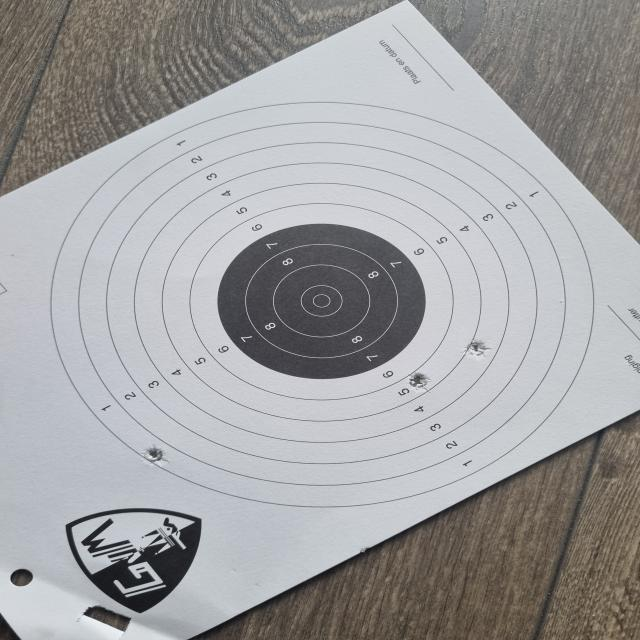1: (140, 446, 170, 466)
6: (462, 339, 491, 357)
7: (408, 373, 430, 393)
Black Contour: (218, 223, 426, 380)
Target: (50, 101, 596, 509)
